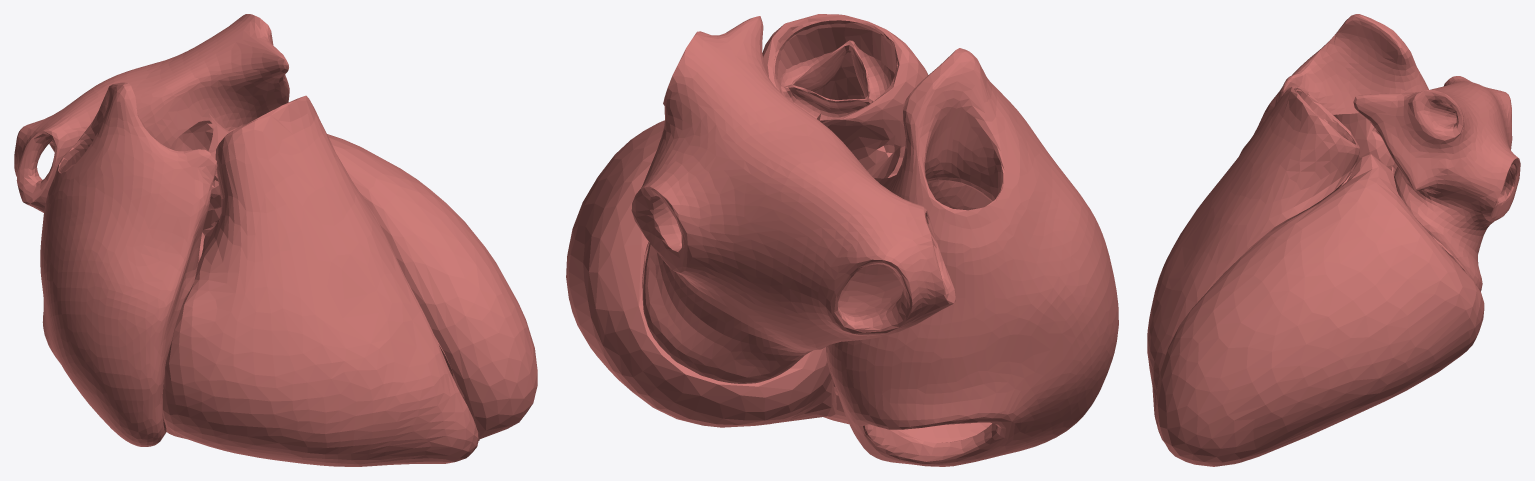
File: VH_M_Heart_0.2.glb
The picture shows the model from 3 angles, left to right: view 1: azimuth 30°, elevation 25°; view 2: azimuth 150°, elevation 25°; view 3: azimuth 270°, elevation 25°; orthographic projection. The views are drawn at different scales.
Parts seen in each view (by area): view 1: VH_M_heart_right_ventricle, VH_M_right_cardiac_atrium, VH_M_heart_left_ventricle, VH_M_left_cardiac_atrium, VH_M_aortic_valve; view 2: VH_M_left_cardiac_atrium, VH_M_right_cardiac_atrium, VH_M_heart_left_ventricle, VH_M_heart_right_ventricle, VH_M_pulmonary_valve, VH_M_aortic_valve; view 3: VH_M_heart_left_ventricle, VH_M_heart_right_ventricle, VH_M_left_cardiac_atrium, VH_M_right_cardiac_atrium, VH_M_aortic_valve.
Part boxes in pixels (box(x1,y1,x2,y2)): VH_M_heart_right_ventricle: box(162, 95, 478, 466); VH_M_right_cardiac_atrium: box(40, 82, 217, 446); VH_M_heart_left_ventricle: box(202, 134, 537, 438); VH_M_left_cardiac_atrium: box(14, 14, 289, 212); VH_M_aortic_valve: box(170, 113, 229, 210); VH_M_left_cardiac_atrium: box(631, 16, 955, 383); VH_M_right_cardiac_atrium: box(826, 48, 1118, 466); VH_M_heart_left_ventricle: box(566, 120, 833, 427); VH_M_heart_right_ventricle: box(762, 14, 928, 424); VH_M_pulmonary_valve: box(772, 19, 897, 119); VH_M_aortic_valve: box(817, 113, 900, 188); VH_M_heart_left_ventricle: box(1156, 154, 1484, 466); VH_M_heart_right_ventricle: box(1147, 86, 1359, 442); VH_M_left_cardiac_atrium: box(1353, 76, 1520, 291); VH_M_right_cardiac_atrium: box(1239, 14, 1428, 155); VH_M_aortic_valve: box(1333, 113, 1397, 169).
Bounding box in the file's own units: 0.1244 × 0.1055 × 0.1053.
